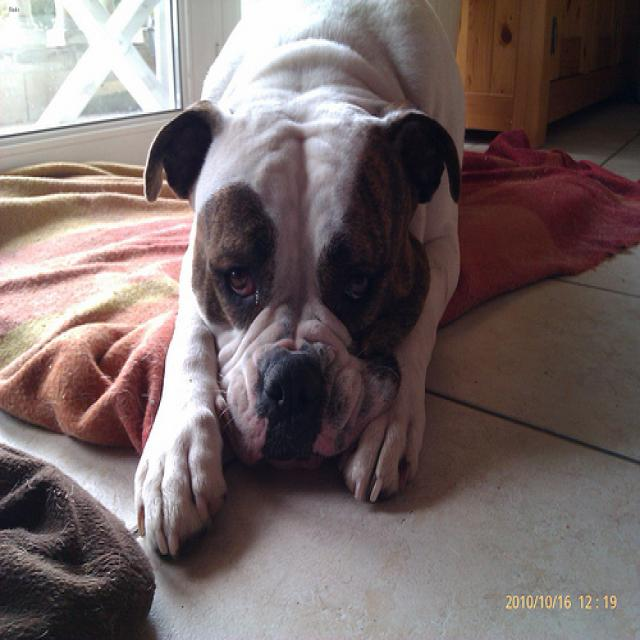dog-american_bulldog: (125, 2, 477, 567)
